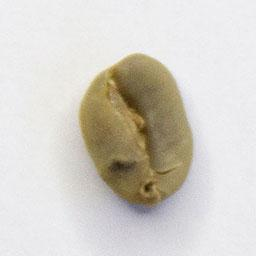premium: (75, 49, 195, 210)
